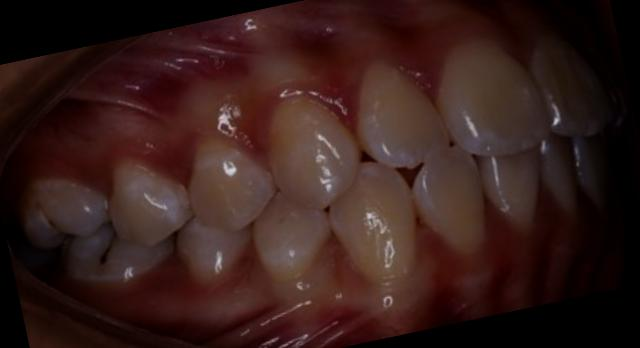canine class I: (222, 69, 434, 316)
molar class III 1/2: (6, 144, 183, 306)
